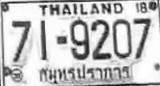0: (112, 18, 131, 58)
1: (40, 20, 46, 60)
2: (91, 19, 110, 58)
7: (11, 20, 30, 61), (132, 17, 150, 58)
9: (70, 18, 89, 59)
SPK: (35, 63, 131, 81)
